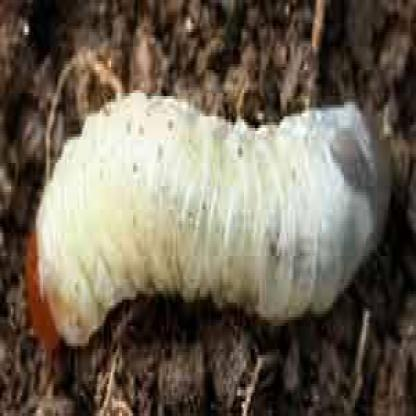root grubs: (29, 89, 392, 350)
